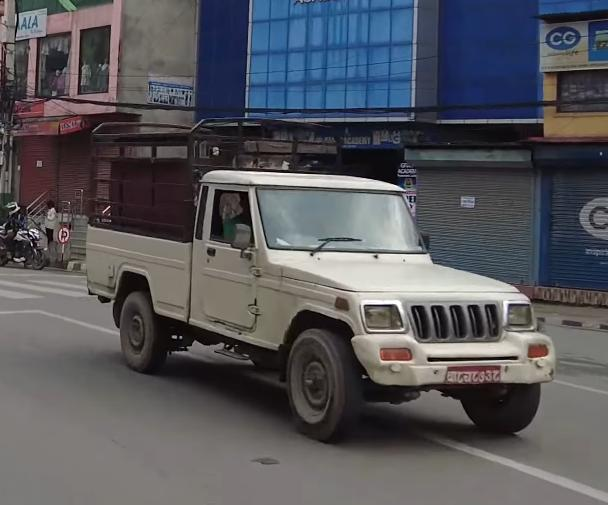bike: (0, 202, 52, 273)
transport_vehicle: (83, 108, 575, 433)
